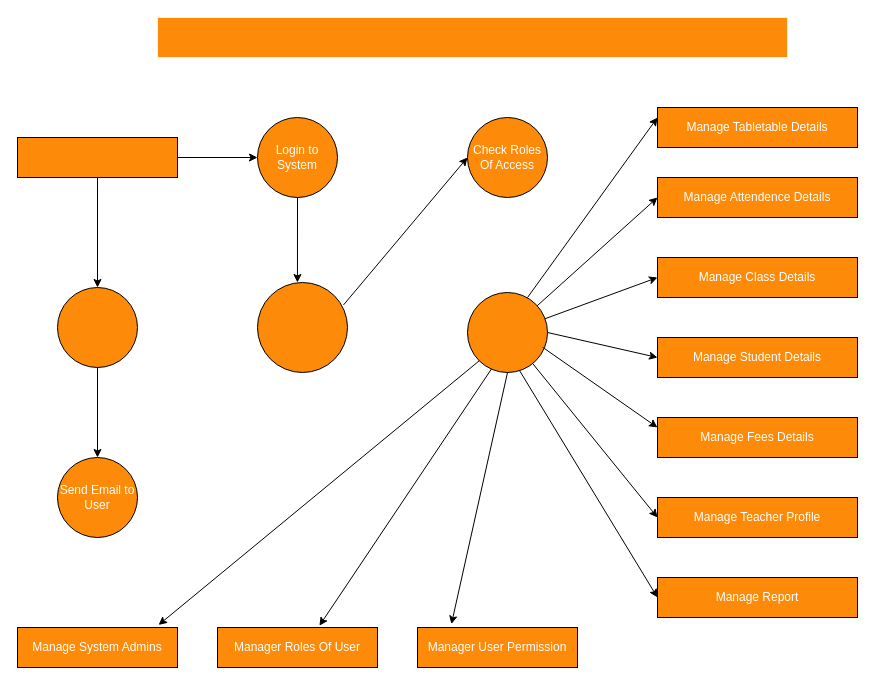
This 875x685 diagram has some shape labels left out. The shapes that lost their labels are listed below. From the top down, each one's centre as x and y in pixels, then its label:
the point at 472,37: Student Information System
the point at 97,157: Admin
the point at 97,327: Forgot Password
the point at 302,327: Check Credentials
the point at 507,332: Manager Modules
